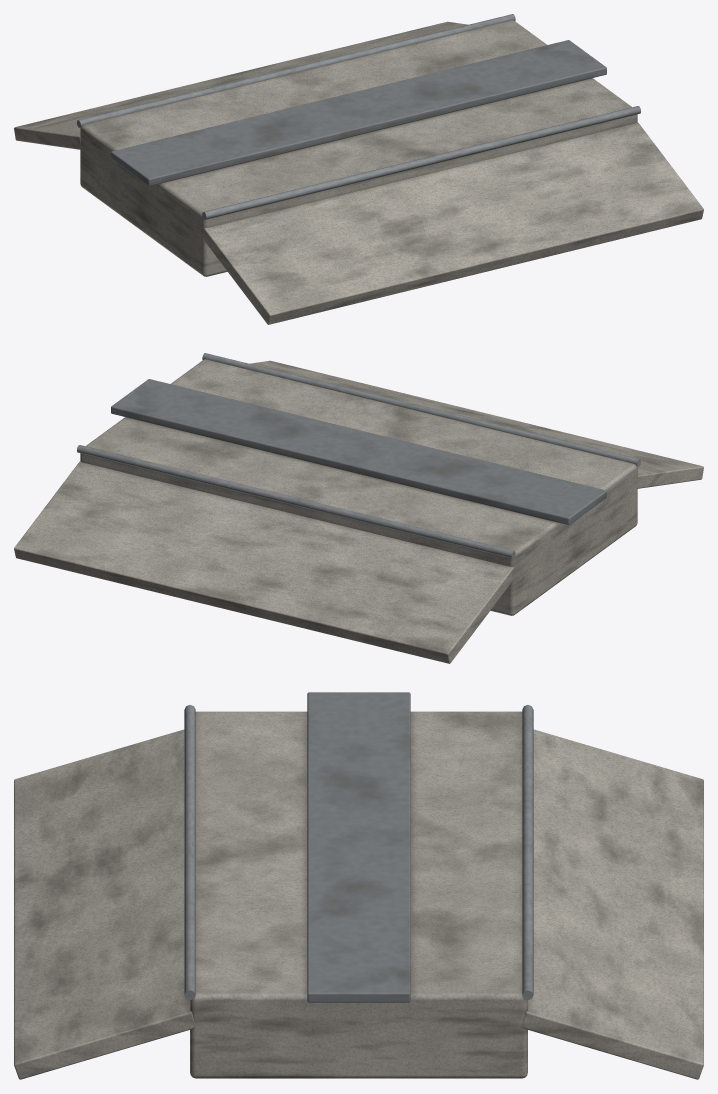
Rendered from skate_funbox.glb.
3 renders of one model, top to bottom at view 1: azimuth 30°, elevation 25°; view 2: azimuth 150°, elevation 25°; view 3: azimuth 270°, elevation 25°, orthographic. The views are drawn at different scales.
Visible parts, largest first — view 1: Funbox; view 2: Funbox; view 3: Funbox.
Part boxes in pixels (<box>): Funbox: <box>14,14,703,324</box>; Funbox: <box>14,353,703,663</box>; Funbox: <box>14,692,703,1079</box>.
Size of the model in its own units: 3.8 by 0.56 by 3.68.
1 material, 1 textured.
